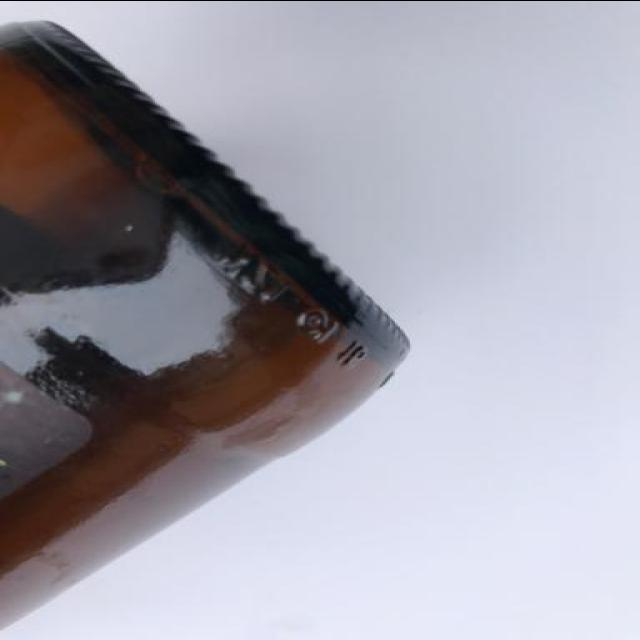glass: (0, 4, 474, 640)
